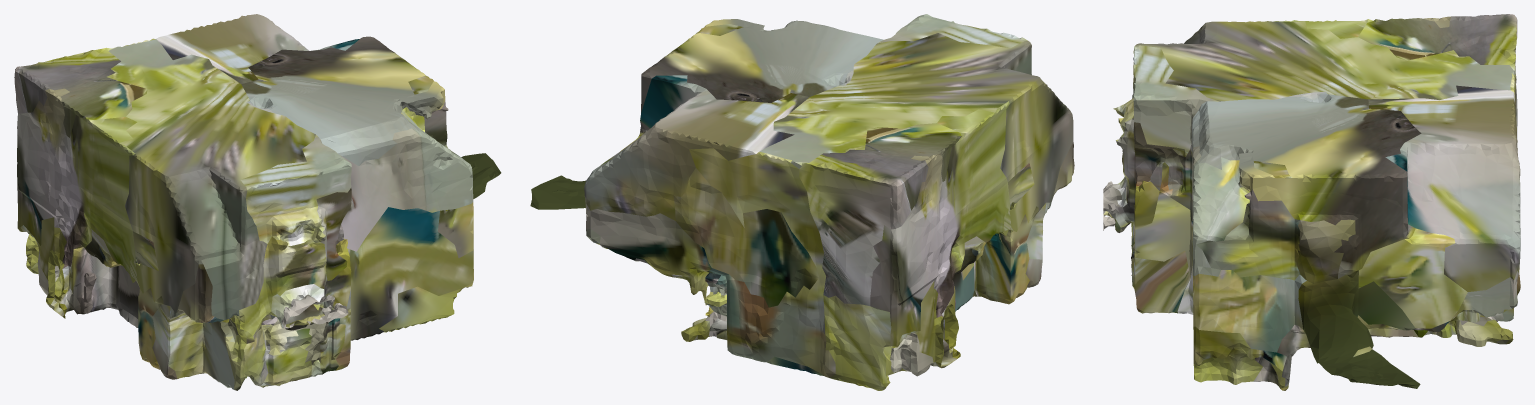
Rendered from squish.obj.
The picture shows the model from 3 angles, left to right: view 1: azimuth 30°, elevation 25°; view 2: azimuth 150°, elevation 25°; view 3: azimuth 270°, elevation 25°; orthographic projection. The views are drawn at different scales.
Bounding box in the file's own units: 5.22 × 2.5 × 4.24.
